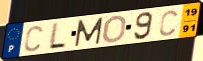9: (133, 11, 155, 41)
C: (158, 9, 179, 38), (23, 25, 44, 53)
L: (47, 22, 68, 50)
M: (74, 16, 105, 48)
O: (100, 15, 128, 44)
